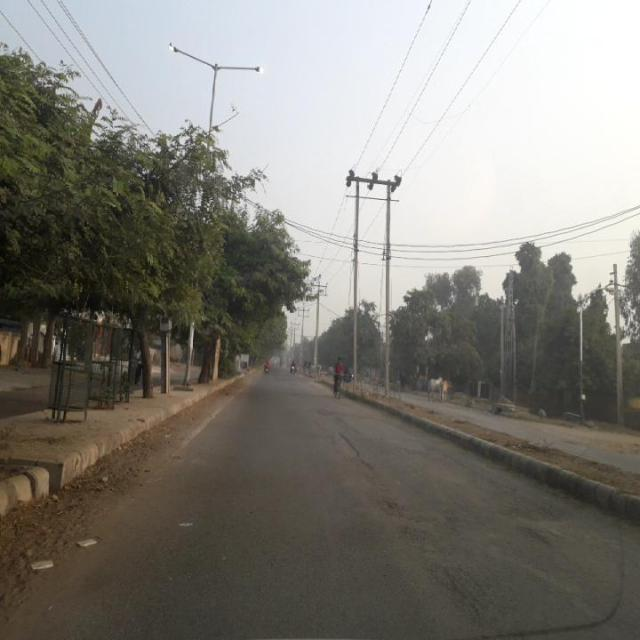D00: (425, 556, 504, 628), (334, 428, 372, 472)
